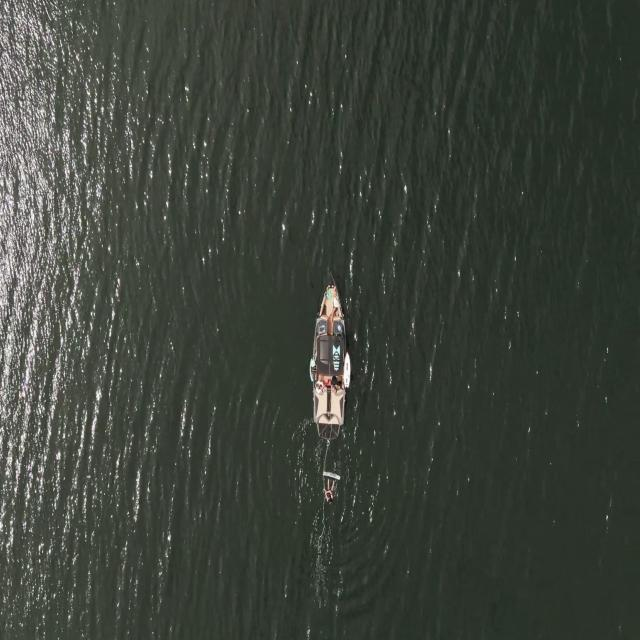ship: (306, 280, 350, 442), (343, 352, 352, 393)
